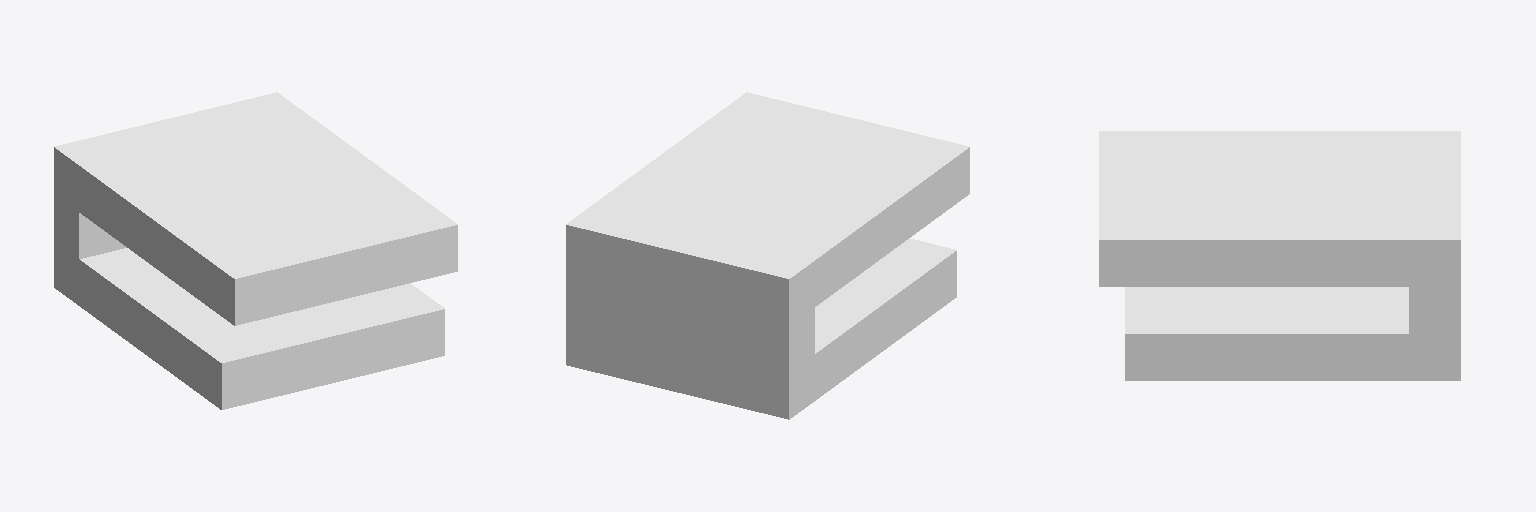
Rendered from mouth.obj.
3 views of the same model, side by side, from view 1: azimuth 30°, elevation 25°; view 2: azimuth 150°, elevation 25°; view 3: azimuth 270°, elevation 25° (orthographic).
Bounding box in the file's own units: 10 × 6 × 14.